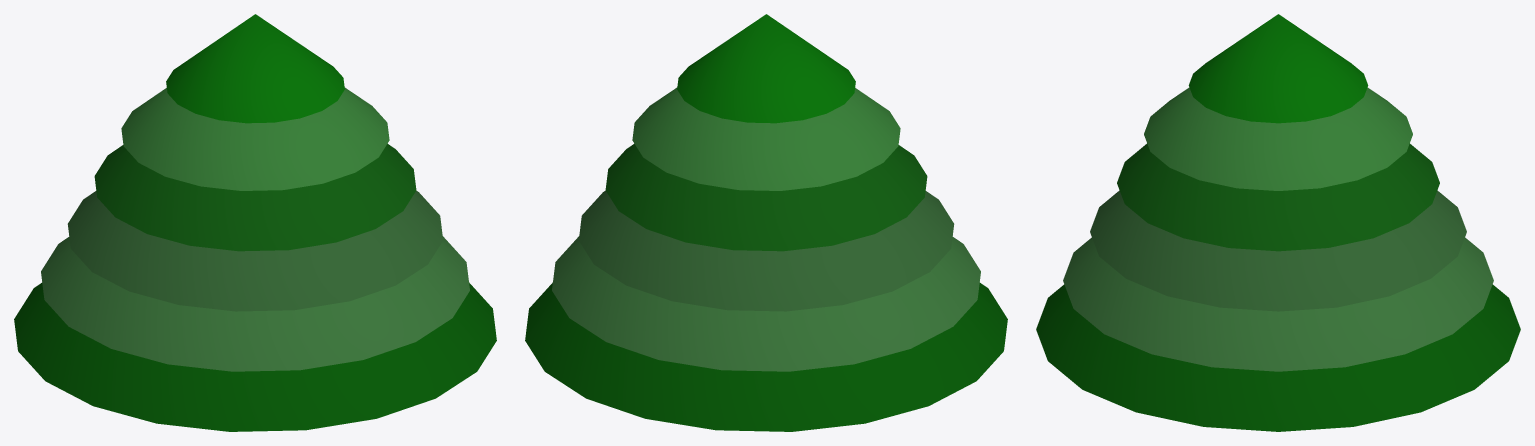
File: BreadBaron_Tree2 (1).fbx
3 views of the same model, side by side, from view 1: azimuth 30°, elevation 25°; view 2: azimuth 150°, elevation 25°; view 3: azimuth 270°, elevation 25° (orthographic).
Visible parts, largest first — view 1: pCone6, pCone7, pCone1, pCone2, pCone3, pCone4; view 2: pCone6, pCone7, pCone1, pCone2, pCone3, pCone4; view 3: pCone6, pCone7, pCone1, pCone2, pCone3, pCone4.
Part boxes in pixels (<box>): pCone6: <box>14,282,496,431</box>; pCone7: <box>41,236,469,371</box>; pCone1: <box>67,190,443,311</box>; pCone2: <box>94,143,416,251</box>; pCone3: <box>121,87,389,190</box>; pCone4: <box>166,14,344,123</box>; pCone6: <box>525,282,1007,431</box>; pCone7: <box>552,236,980,371</box>; pCone1: <box>578,190,954,311</box>; pCone2: <box>605,143,927,251</box>; pCone3: <box>632,87,900,190</box>; pCone4: <box>677,14,855,123</box>; pCone6: <box>1036,284,1520,431</box>; pCone7: <box>1063,237,1493,371</box>; pCone1: <box>1090,190,1466,311</box>; pCone2: <box>1117,143,1439,251</box>; pCone3: <box>1144,87,1412,190</box>; pCone4: <box>1188,14,1368,123</box>.
Size of the model in its own units: 2.7 by 2.24 by 2.7.
